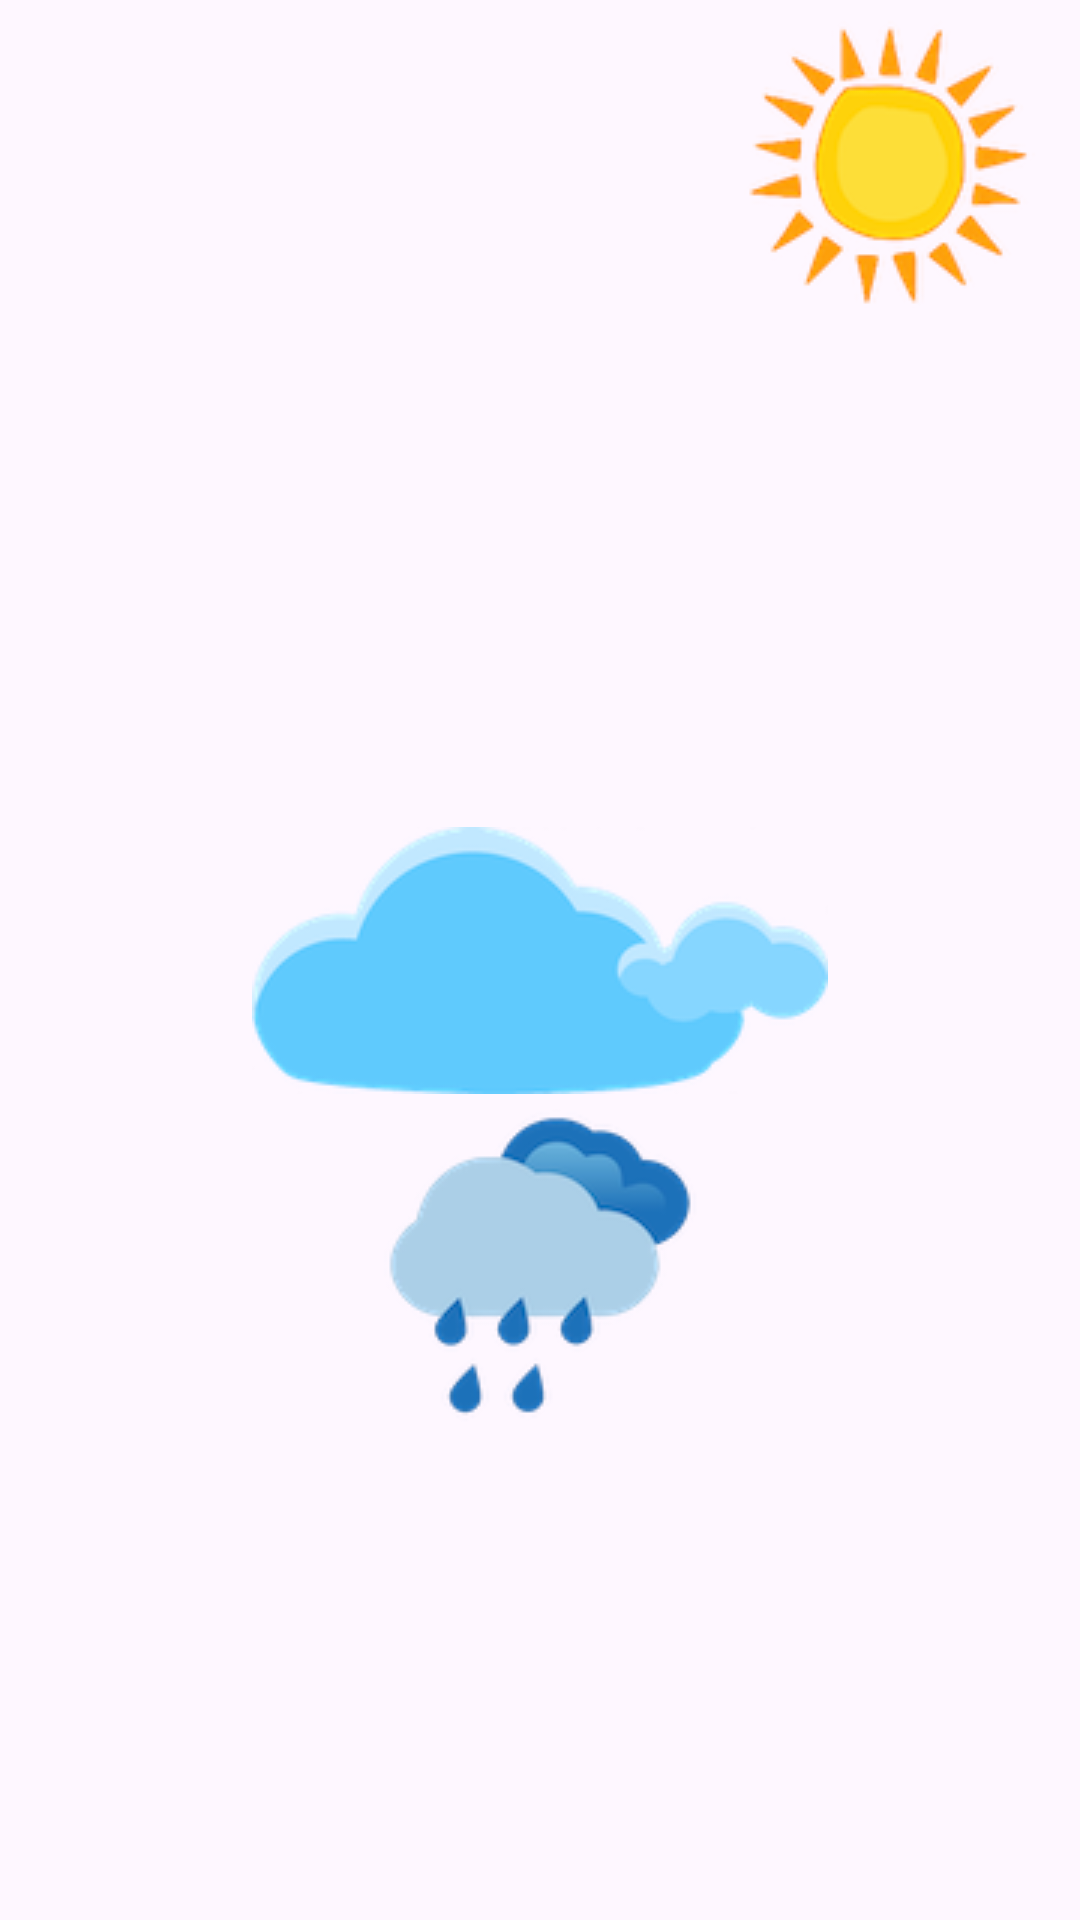

Icons on this 1080 × 1920 Android screen, each with the point to tap as (x=x, y=y):
cloud rain: (x=540, y=1265)
sun: (x=888, y=166)
